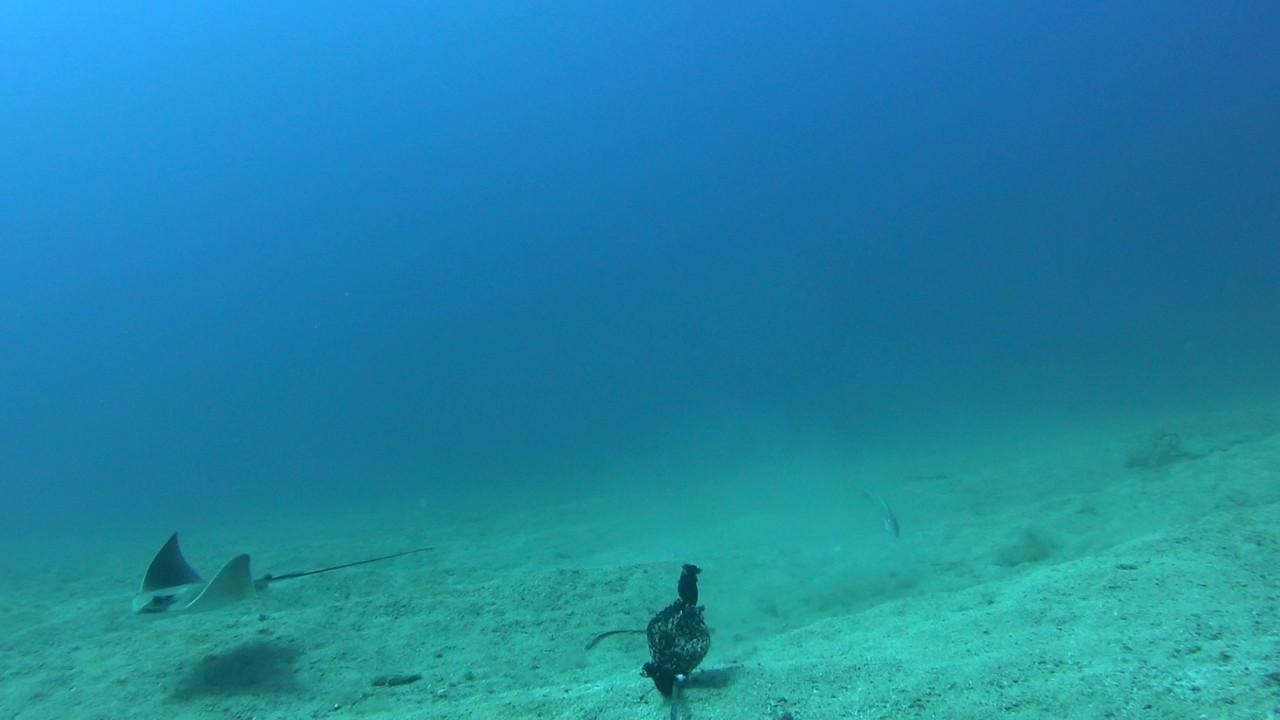myliobatis: (118, 519, 490, 616)
